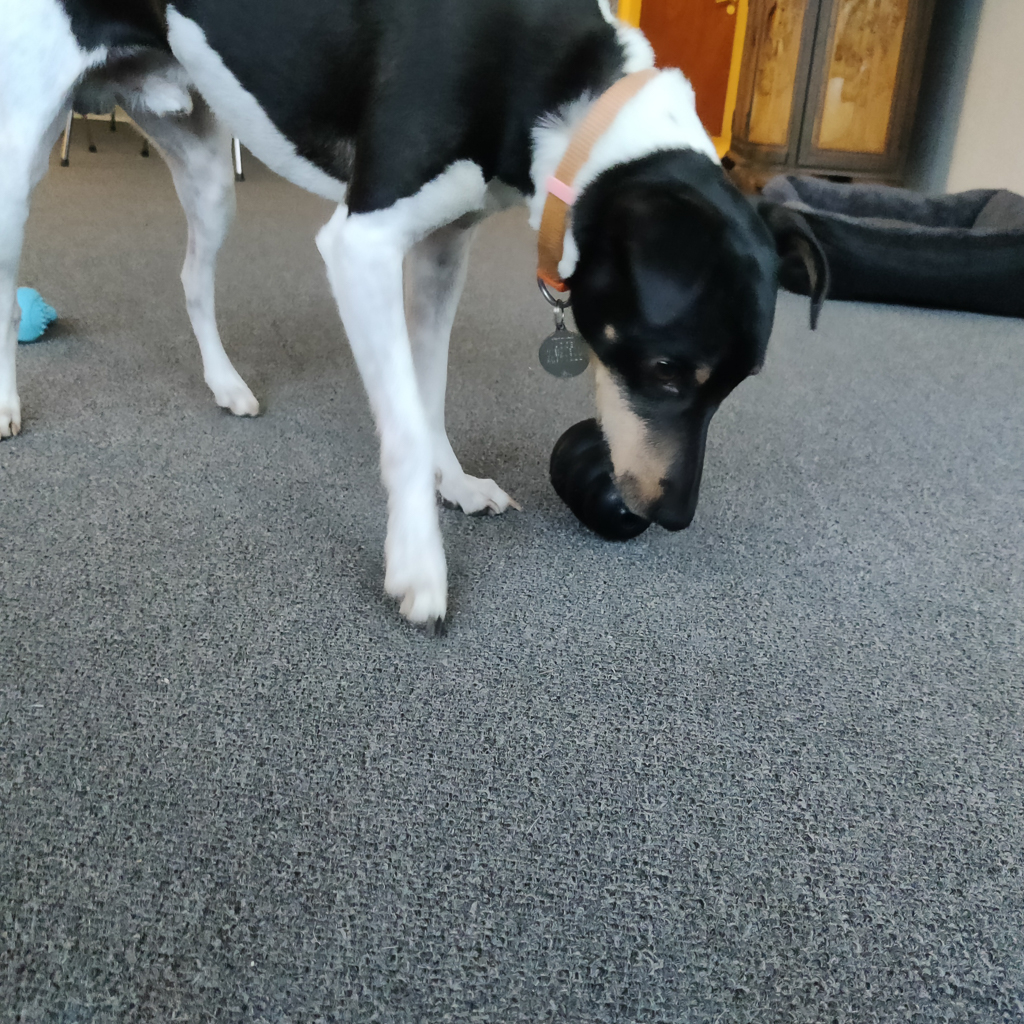Dog: (0, 0, 845, 649)
